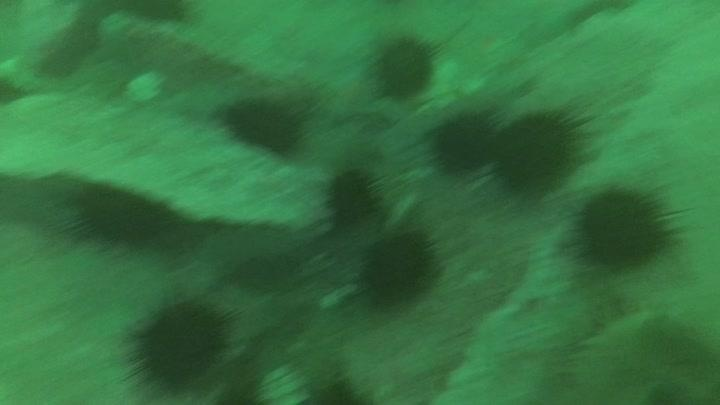echinus: (125, 293, 235, 395), (571, 182, 681, 273), (486, 104, 589, 197), (356, 225, 441, 310), (65, 183, 171, 249), (221, 93, 308, 157), (368, 31, 442, 103), (428, 107, 503, 176), (323, 165, 384, 227)
starfish: (578, 306, 718, 405), (317, 61, 385, 125)
